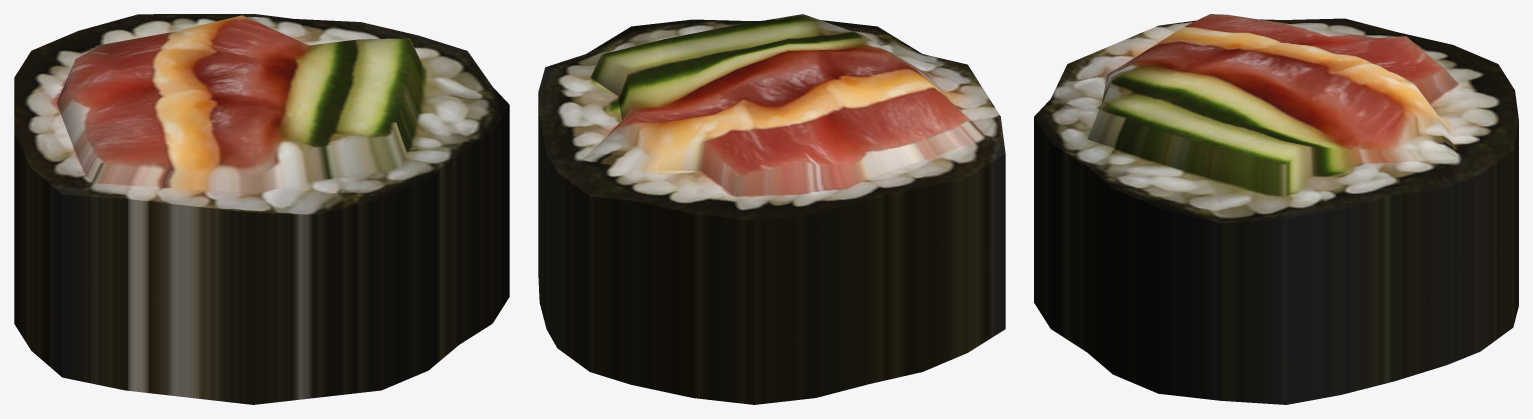
Rendered from sushi2.glb.
3 renders of one model, left to right at view 1: azimuth 30°, elevation 25°; view 2: azimuth 150°, elevation 25°; view 3: azimuth 270°, elevation 25°, orthographic. The views are drawn at different scales.
Parts seen in each view (by area): view 1: sushi_2; view 2: sushi_2; view 3: sushi_2.
Boxes of the visible parts, x1,y1,x2,y2 form: sushi_2: (14, 14, 509, 404); sushi_2: (538, 14, 1005, 404); sushi_2: (1034, 14, 1518, 404).
Bounding box in the file's own units: 2.08 × 1.05 × 2.03.
1 material, 1 textured.
